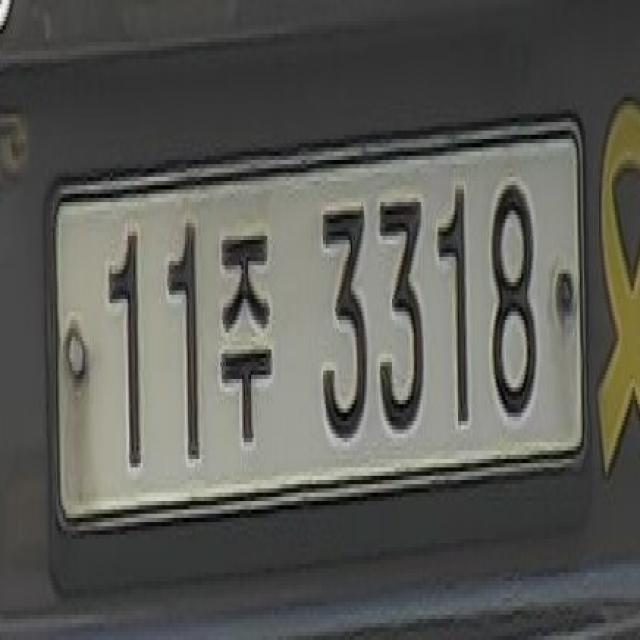1: (427, 164, 482, 451), (102, 206, 156, 488), (161, 198, 210, 484)
3: (314, 185, 374, 459), (373, 177, 430, 459)
8: (485, 164, 543, 434)
ju: (214, 206, 279, 463)
license_plate: (46, 101, 594, 581)
